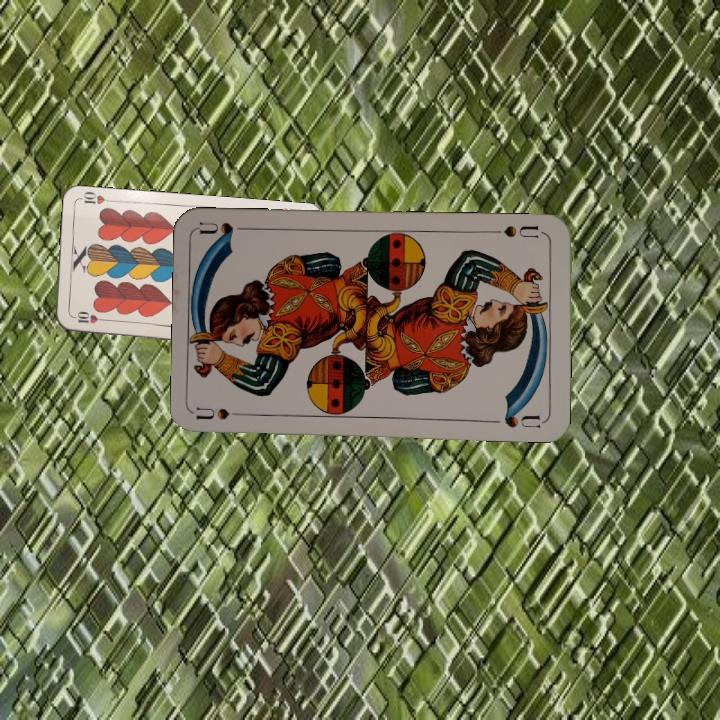H10: (68, 309, 109, 326)
SU: (488, 221, 547, 241), (195, 403, 254, 422)
